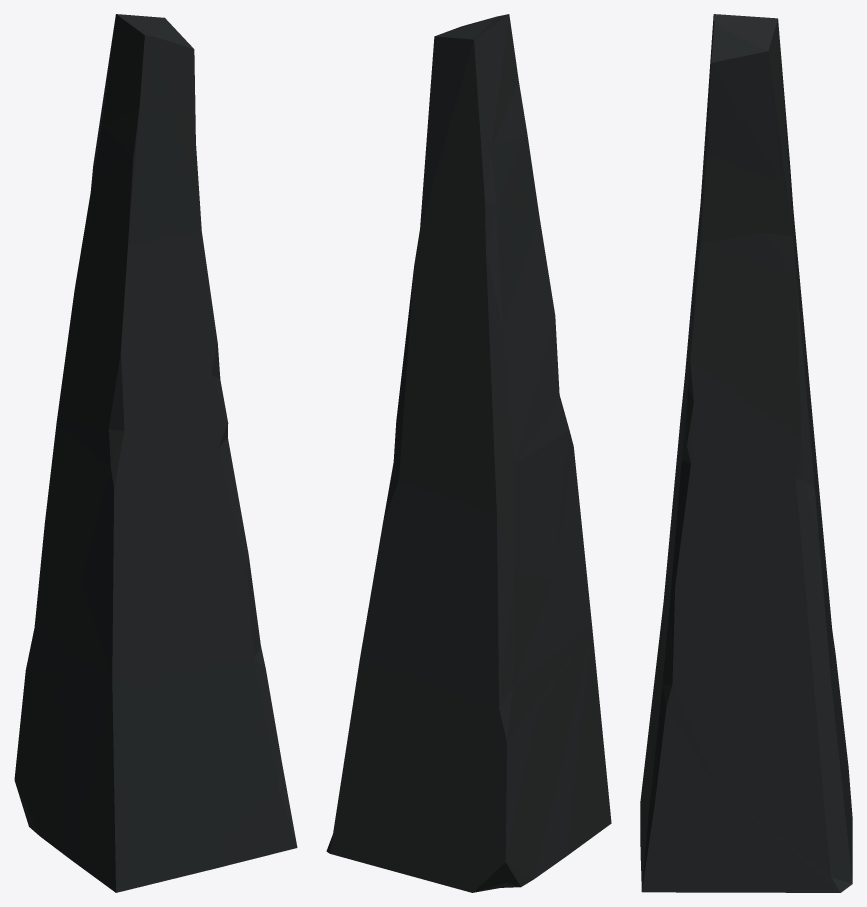
Rendered from Portal_01_Fragment_B.FBX.
3 renders of one model, left to right at view 1: azimuth 30°, elevation 25°; view 2: azimuth 150°, elevation 25°; view 3: azimuth 270°, elevation 25°, orthographic.
Visible parts, largest first — view 1: Portal_01_Fragment_B; view 2: Portal_01_Fragment_B; view 3: Portal_01_Fragment_B.
Part boxes in pixels (x1,y1,x2,y2): Portal_01_Fragment_B: (14,14,297,892); Portal_01_Fragment_B: (326,14,611,892); Portal_01_Fragment_B: (640,14,852,892).
Size of the model in its own units: 0.9187 by 3.89 by 0.9128.
